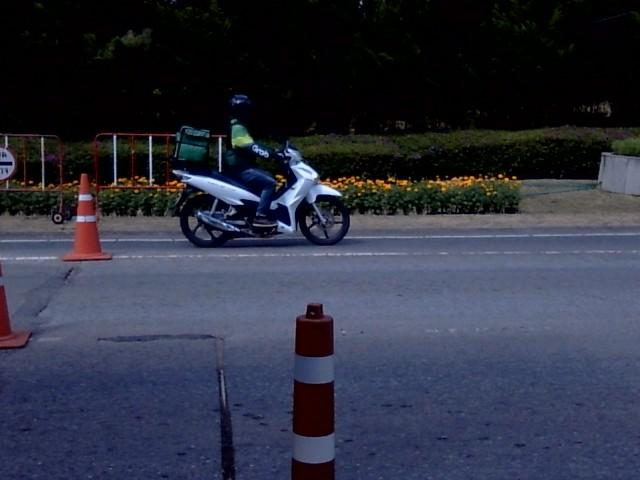helmet: (227, 91, 253, 120)
motor: (173, 141, 349, 246)
person: (226, 94, 283, 225)
